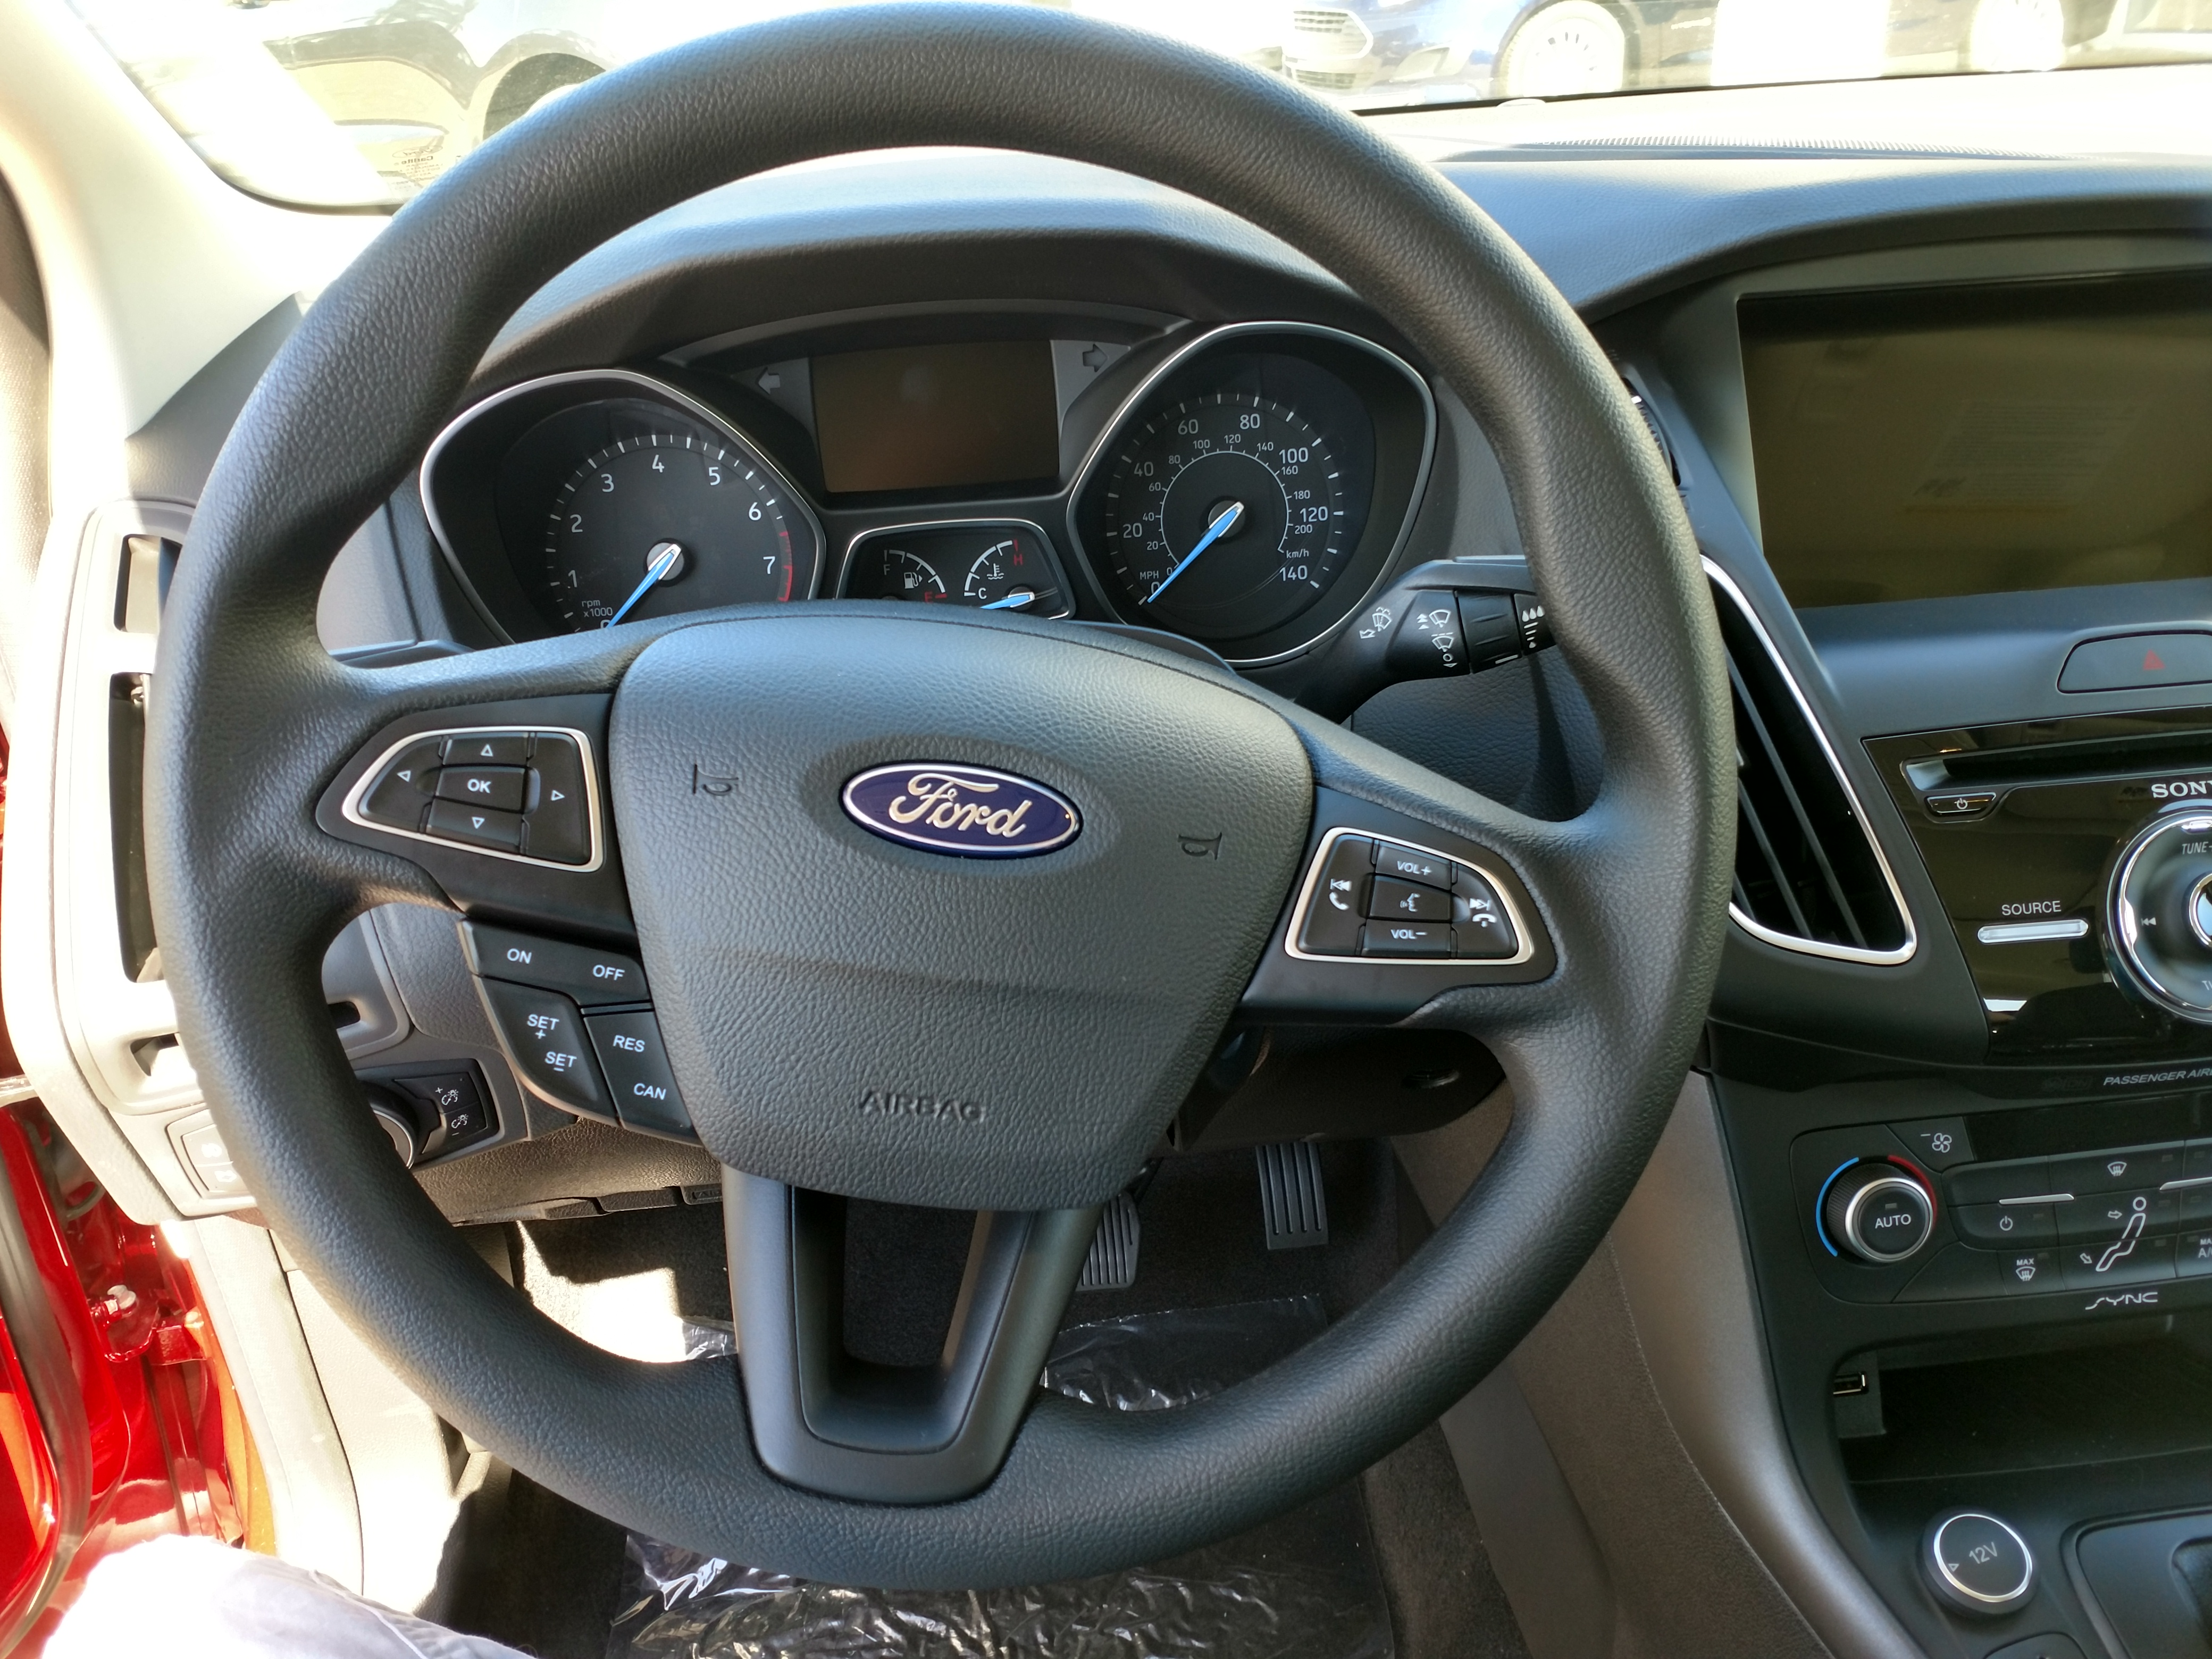Ford: (827, 748, 1097, 870)
